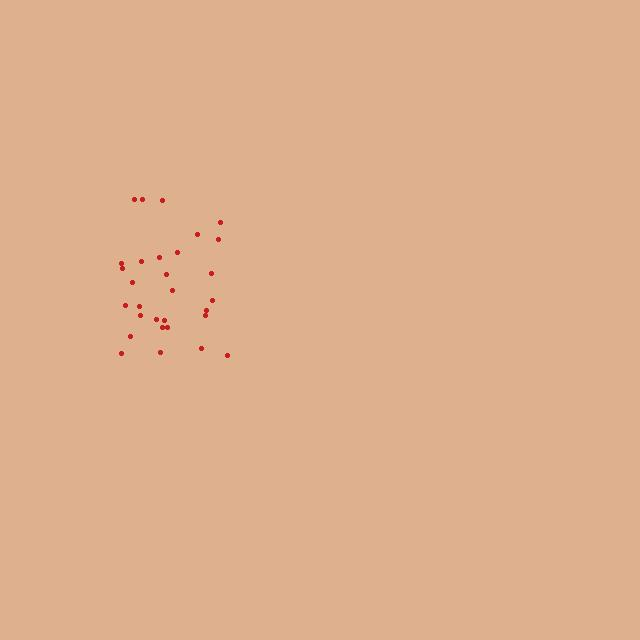abrasion: (117, 188, 227, 361)
